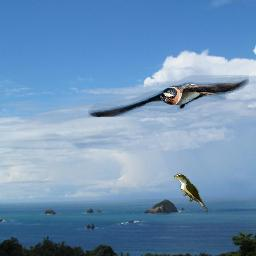Cuckoo: (174, 173, 209, 214)
Swallow: (88, 75, 249, 117)
